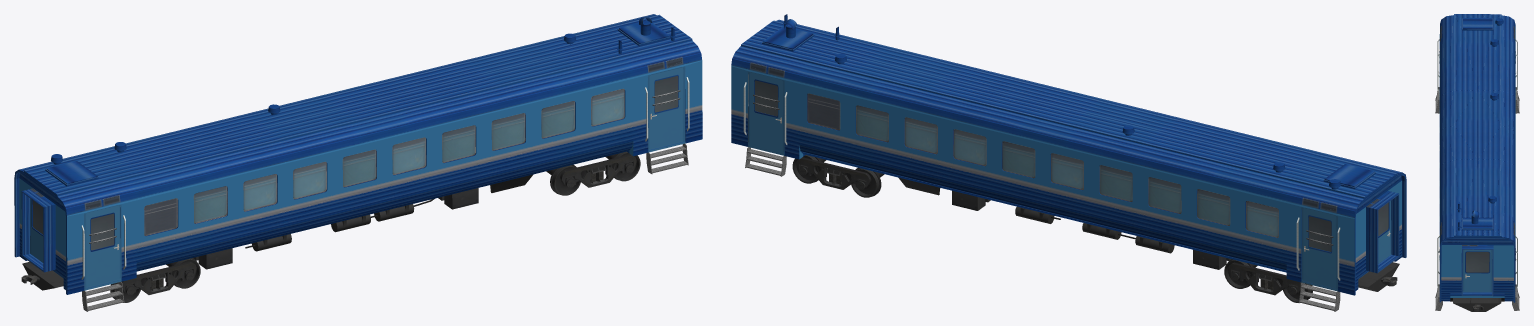
Rendered from Train01aCupe_1Passenger.FBX.
3 renders of one model, left to right at view 1: azimuth 30°, elevation 25°; view 2: azimuth 150°, elevation 25°; view 3: azimuth 270°, elevation 25°, orthographic. The views are drawn at different scales.
Parts seen in each view (by area): view 1: Train01aCupe_1Passenger, Train01aCupe_1WheelsPas, Train01aCupe_Stairs, Train01aCupe_1Wheel03Pas; view 2: Train01aCupe_1Passenger, Train01aCupe_1WheelsPas, Train01aCupe_Stairs, Train01aCupe_1Wheel03Pas; view 3: Train01aCupe_1Passenger, Train01aCupe_1WheelsPas, Train01aCupe_Stairs.
Boxes of the visible parts, x1=… form: Train01aCupe_1Passenger: x1=14, y1=14, x2=702, y2=294; Train01aCupe_1WheelsPas: x1=21, y1=154, x2=636, y2=294; Train01aCupe_Stairs: x1=82, y1=143, x2=688, y2=311; Train01aCupe_1Wheel03Pas: x1=546, y1=164, x2=581, y2=195; Train01aCupe_1Passenger: x1=731, y1=14, x2=1406, y2=295; Train01aCupe_1WheelsPas: x1=796, y1=157, x2=1399, y2=295; Train01aCupe_Stairs: x1=745, y1=147, x2=1340, y2=311; Train01aCupe_1Wheel03Pas: x1=850, y1=167, x2=884, y2=197; Train01aCupe_1Passenger: x1=1437, y1=14, x2=1517, y2=302; Train01aCupe_1WheelsPas: x1=1453, y1=298, x2=1501, y2=311; Train01aCupe_Stairs: x1=1435, y1=87, x2=1519, y2=310.
Size of the model in its own units: 1348 by 277 by 206.
